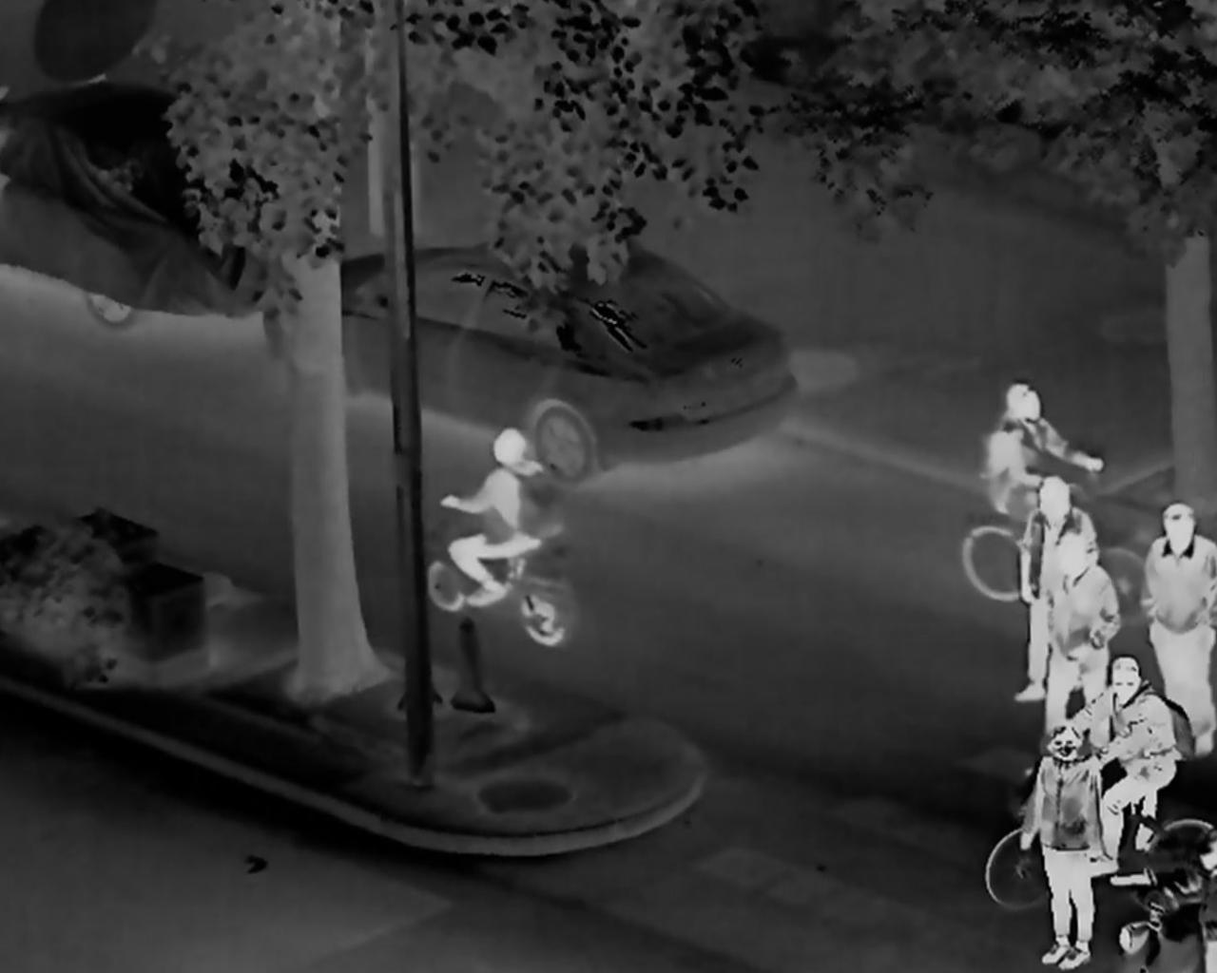person: (1060, 657, 1177, 887), (1020, 725, 1110, 966), (983, 384, 1103, 557), (440, 428, 548, 611), (1140, 502, 1214, 756), (1018, 480, 1096, 700), (1042, 535, 1117, 740), (1164, 830, 1217, 956)
